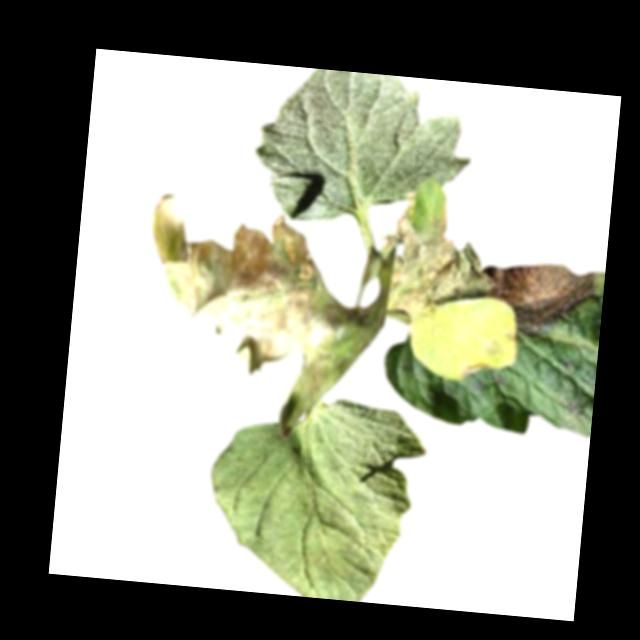Late_blight: (102, 188, 382, 447), (375, 191, 502, 326), (476, 256, 596, 344), (459, 357, 486, 379)
healthy: (200, 389, 430, 606), (249, 64, 479, 235)
